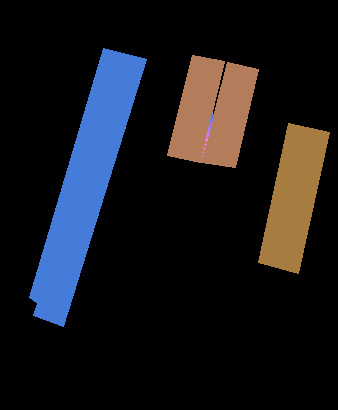parkingspot: (28, 48, 146, 326), (257, 123, 329, 273), (166, 55, 224, 162), (200, 62, 258, 167)
